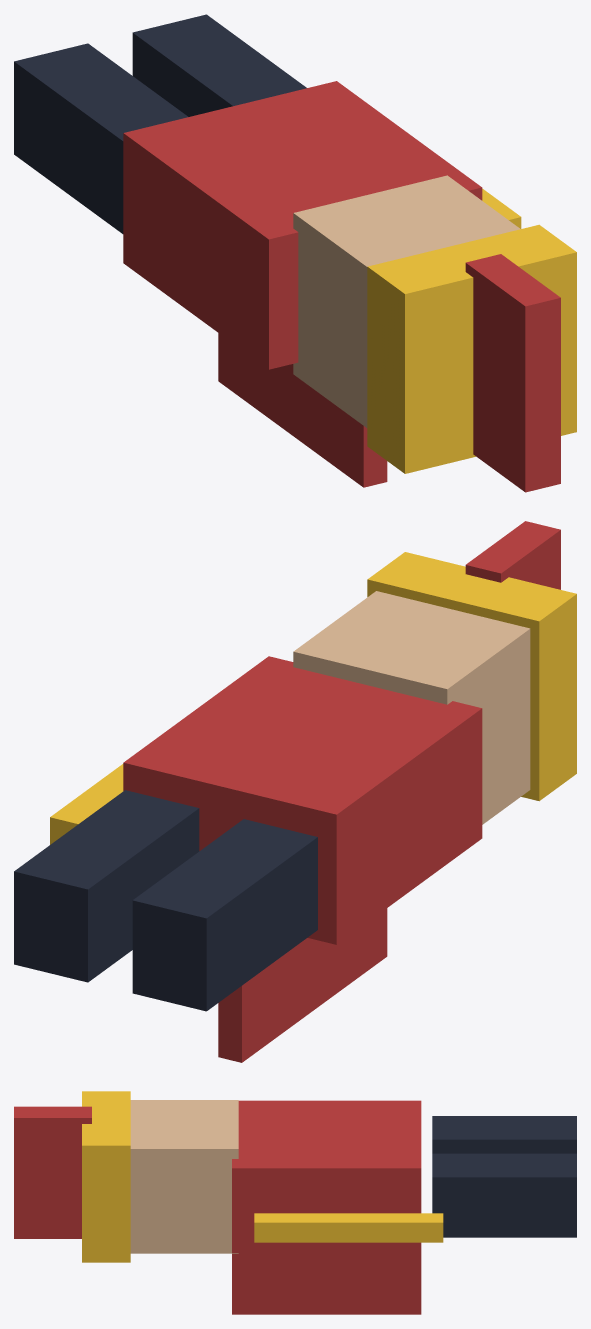
Rendered from roman_soldier.glb.
3 renders of one model, top to bottom at view 1: azimuth 30°, elevation 25°; view 2: azimuth 150°, elevation 25°; view 3: azimuth 270°, elevation 25°, orthographic. The views are drawn at different scales.
Visible parts, largest first — view 1: part_0, part_2, part_1, part_3, part_4, part_5, part_6; view 2: part_0, part_4, part_1, part_5, part_2, part_6, part_3, part_7; view 3: part_0, part_1, part_5, part_6, part_3, part_2, part_7, part_4.
Boxes of the visible parts, x1,y1,x2,y2 form: part_0: (123,81,482,369); part_2: (367,224,576,473); part_1: (293,175,520,427); part_3: (465,254,560,492); part_4: (14,43,188,233); part_5: (132,14,306,116); part_6: (218,333,387,487); part_0: (123,656,482,944); part_4: (132,819,317,1011); part_1: (293,591,530,824); part_5: (14,790,199,982); part_2: (367,552,576,801); part_6: (218,908,387,1062); part_3: (465,521,560,589); part_7: (50,764,123,844); part_0: (232,1100,421,1252); part_1: (130,1100,238,1253); part_5: (432,1153,576,1237); part_6: (232,1253,421,1314); part_3: (14,1106,91,1238); part_2: (82,1091,130,1262); part_7: (254,1213,443,1242); part_4: (432,1116,576,1153).
Size of the model in its own units: 0.91 by 0.985 by 2.53.
